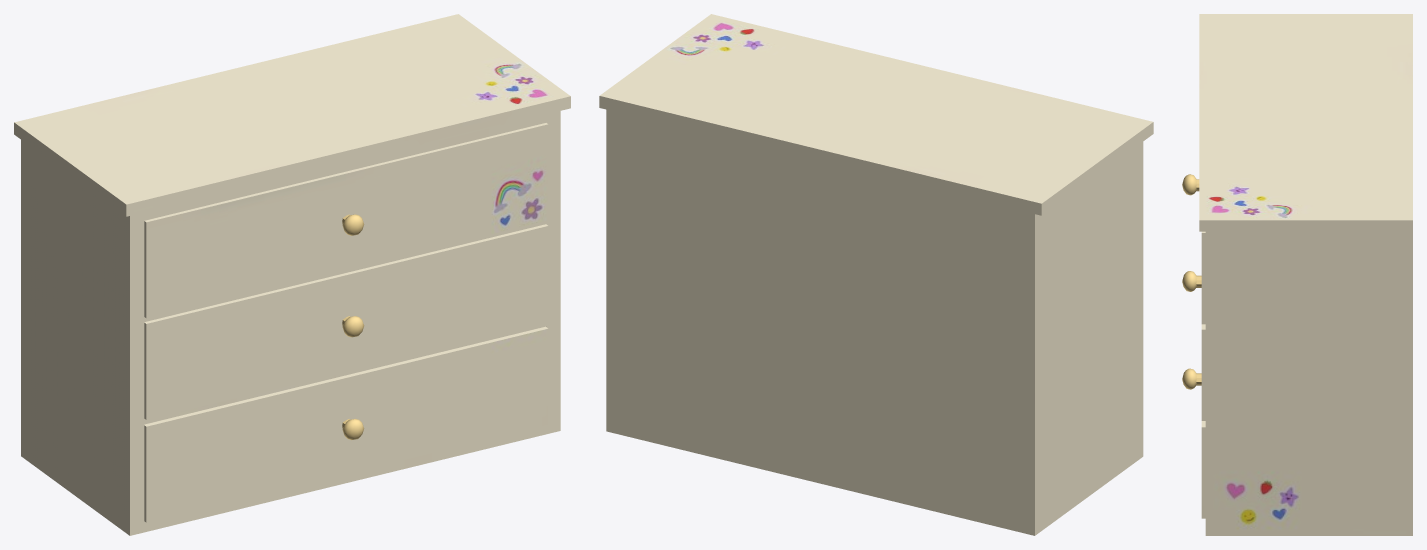
File: room_dresser.glb
3 renders of one model, left to right at view 1: azimuth 30°, elevation 25°; view 2: azimuth 150°, elevation 25°; view 3: azimuth 270°, elevation 25°, orthographic. The views are drawn at different scales.
Visible parts, largest first — view 1: room_dresser; view 2: room_dresser; view 3: room_dresser.
Part boxes in pixels (x1,y1,x2,y2): room_dresser: (14, 14, 570, 535); room_dresser: (599, 14, 1153, 535); room_dresser: (1182, 14, 1412, 535).
Size of the model in its own units: 222 by 160 by 105.
3 materials, 3 textured.
